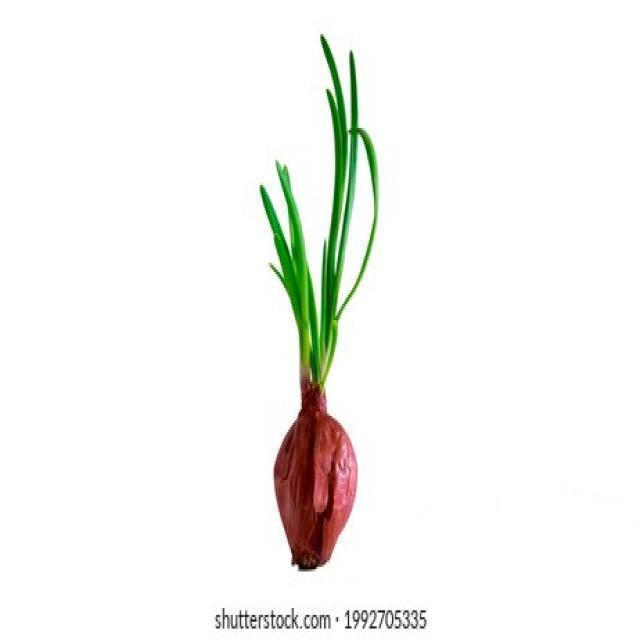Onion: (258, 30, 381, 379), (270, 377, 359, 574)
